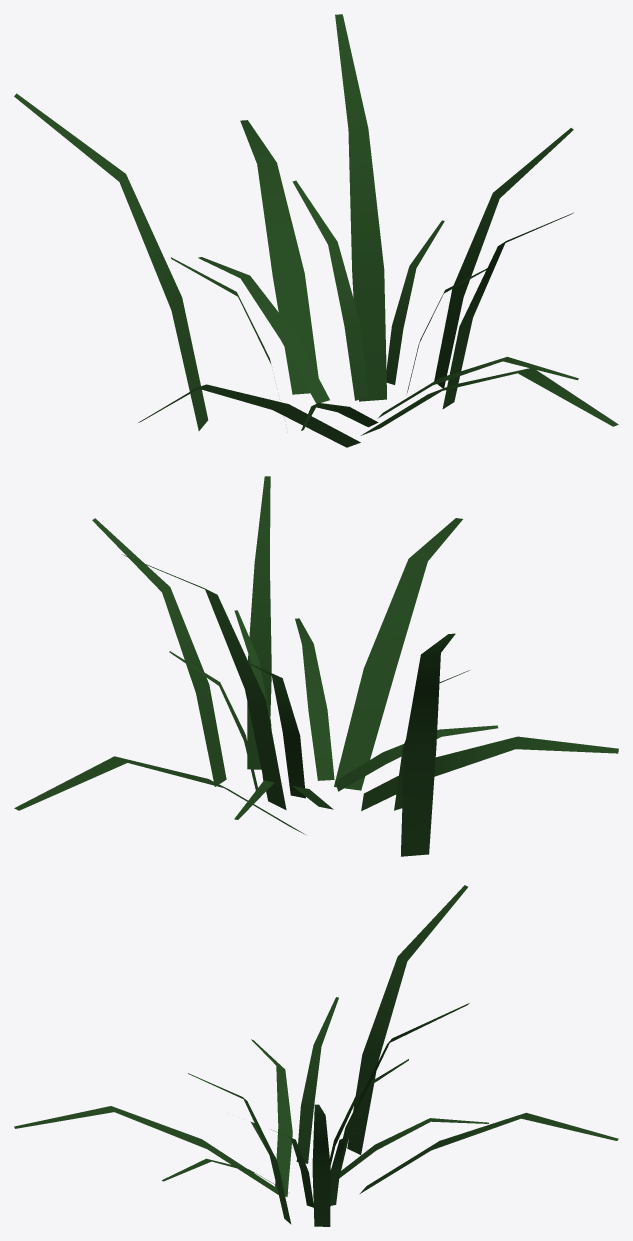
Rendered from Grass4_2.fbx.
The picture shows the model from 3 angles, top to bottom: view 1: azimuth 30°, elevation 25°; view 2: azimuth 150°, elevation 25°; view 3: azimuth 270°, elevation 25°; orthographic projection. The views are drawn at different scales.
Parts seen in each view (by area): view 1: Grass.001; view 2: Grass.001; view 3: Grass.001.
Boxes of the visible parts, x1,y1,x2,y2 form: Grass.001: (14, 14, 618, 447); Grass.001: (14, 476, 618, 856); Grass.001: (14, 885, 618, 1226).
Size of the model in its own units: 297 by 188 by 438.
